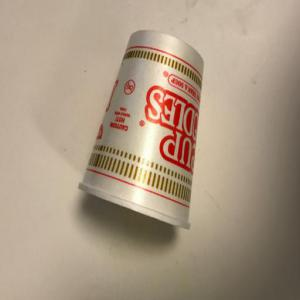Cup: (78, 31, 205, 231)
